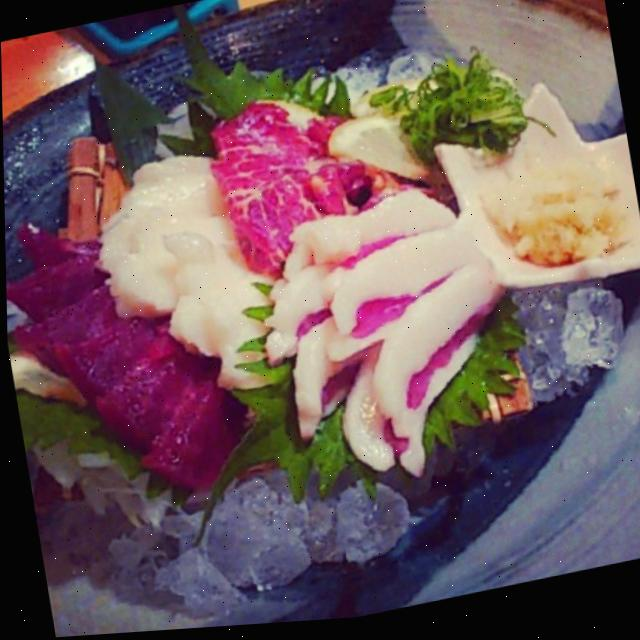刺身生食: (15, 0, 640, 627)
